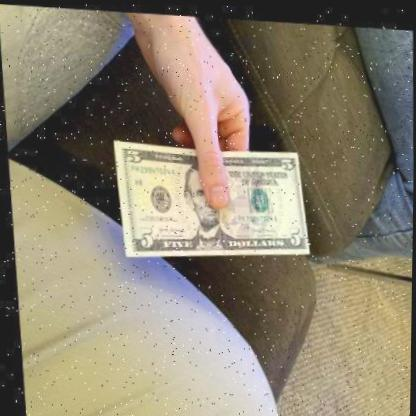dollar_front: (110, 134, 309, 268)
